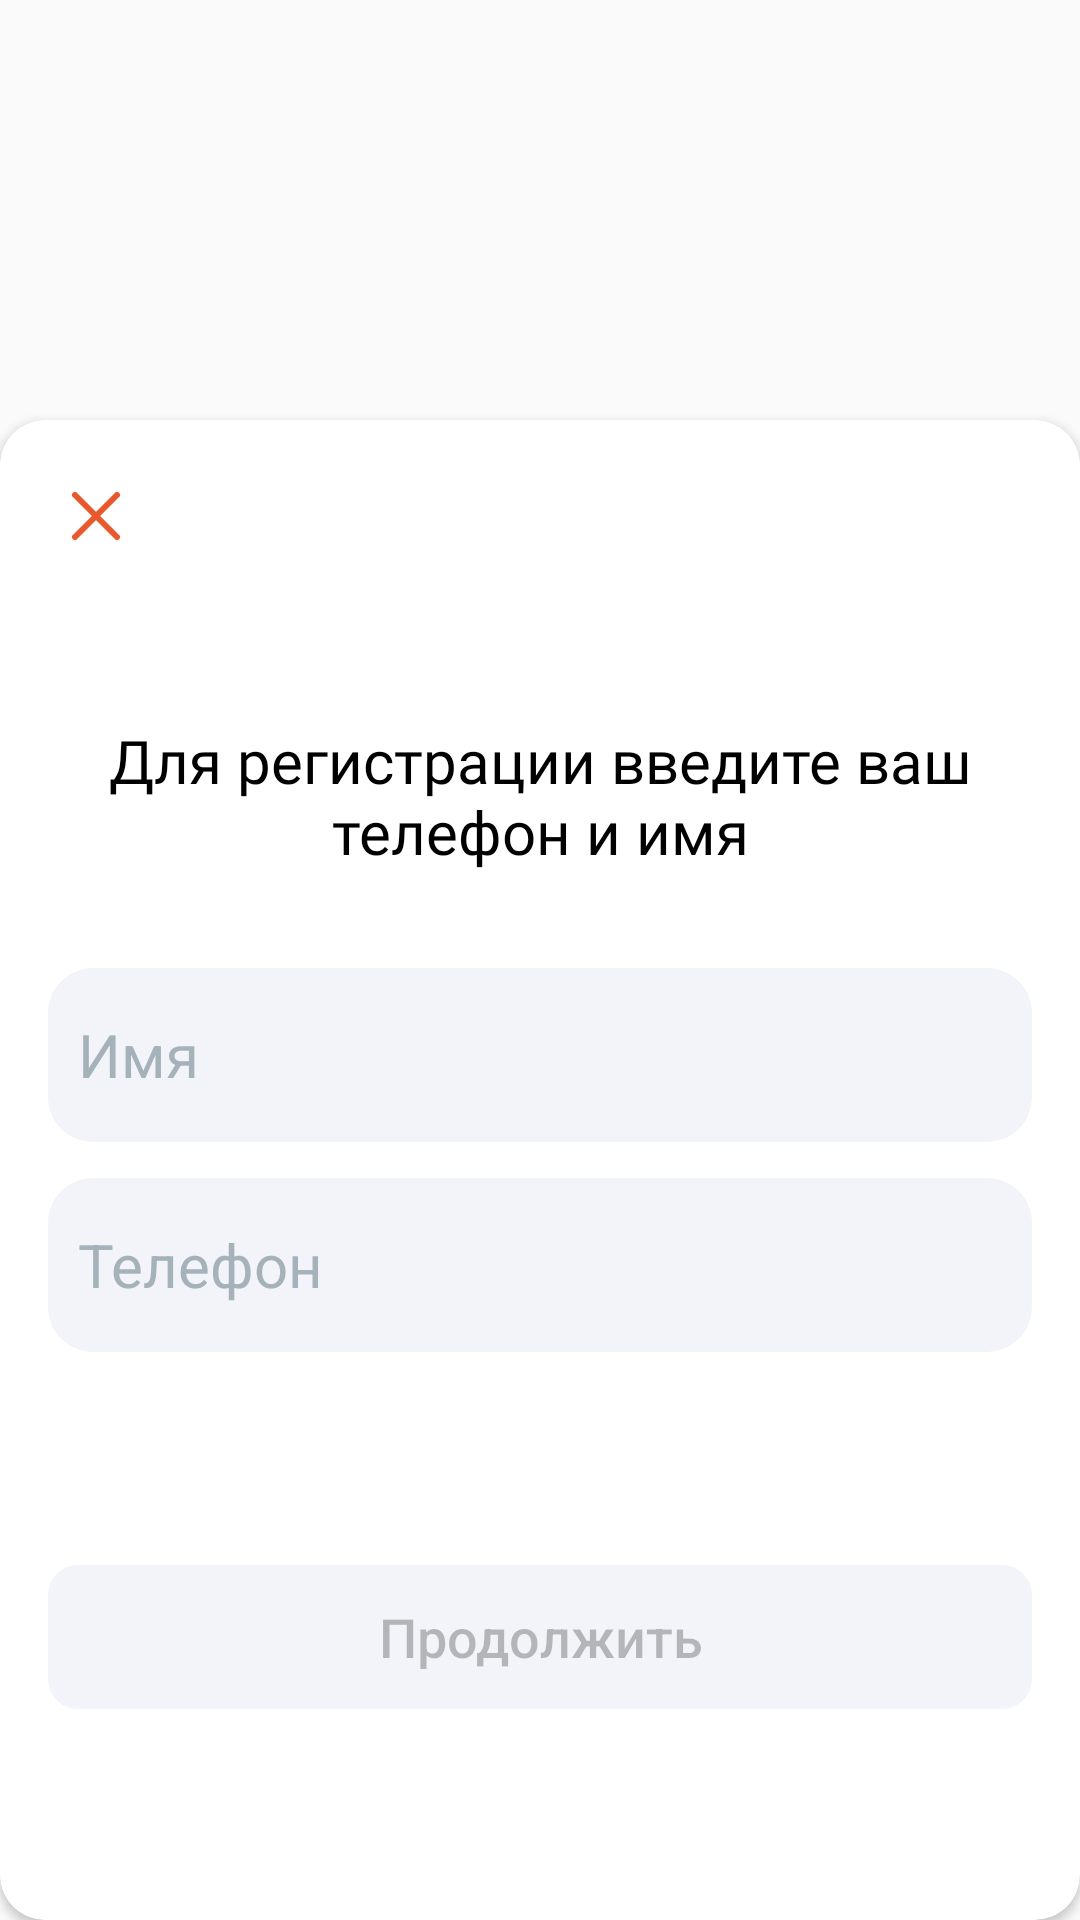

Icons on this 1080px x 1920px Android screen, each with its box as (x1, y1, x2, y2):
close: (72, 492, 120, 540)
